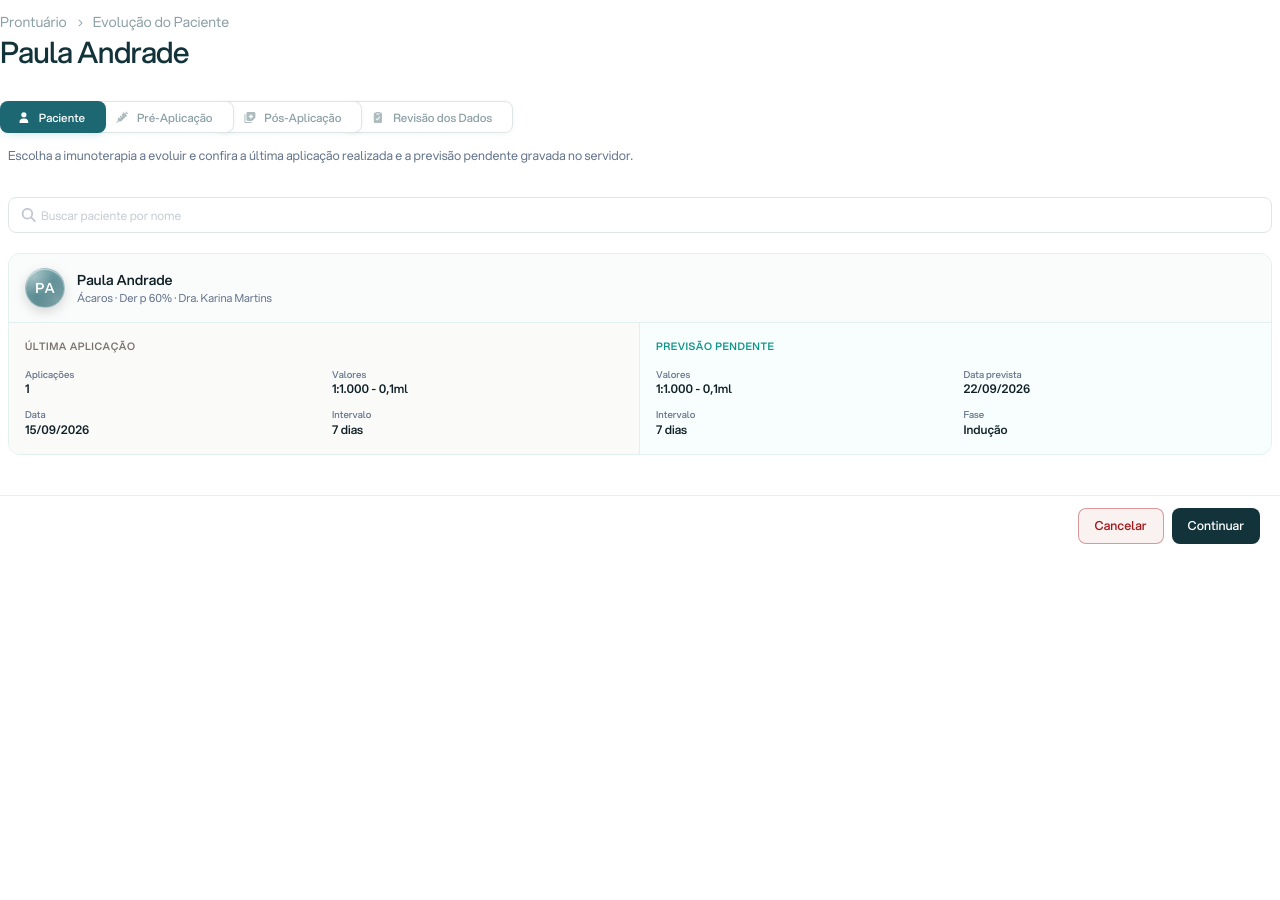
it: wizard de evolução sobre o contrato de doses › revisão desatualizada recarrega a dose e mantém o formulário, sem sucesso local
This screenshot has width=1280, height=900.
Expected: the text "Previsão pendente" is shown, [656,339,774,353]
Click the button "Continuar" at (1216, 526), box [1172,508,1260,544]
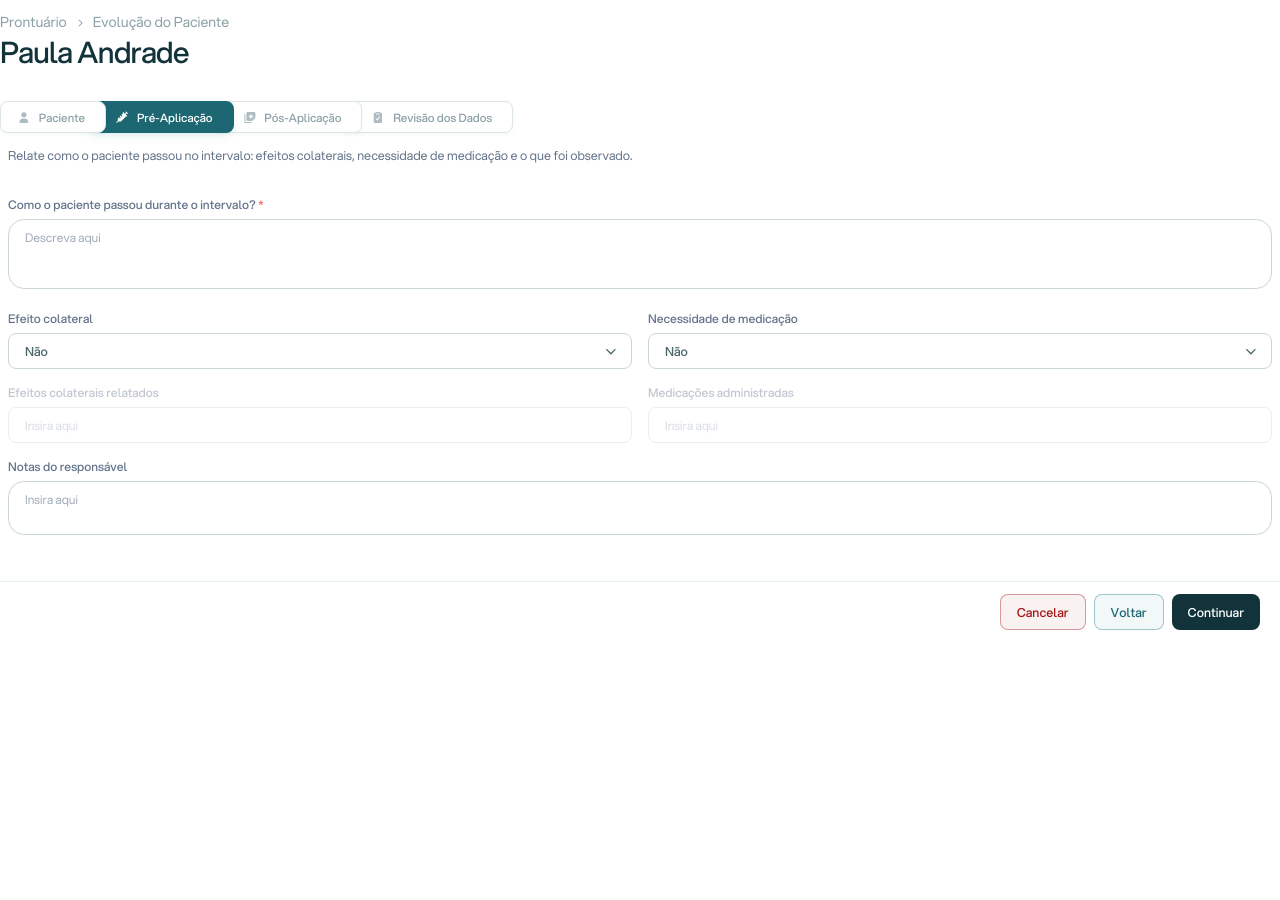
Type "Sem intercorrências no intervalo." into the text box with placeholder "Descreva aqui" at (640, 254), box [8,219,1272,289]
Click the button "Continuar" at (1216, 612), box [1172,594,1260,630]
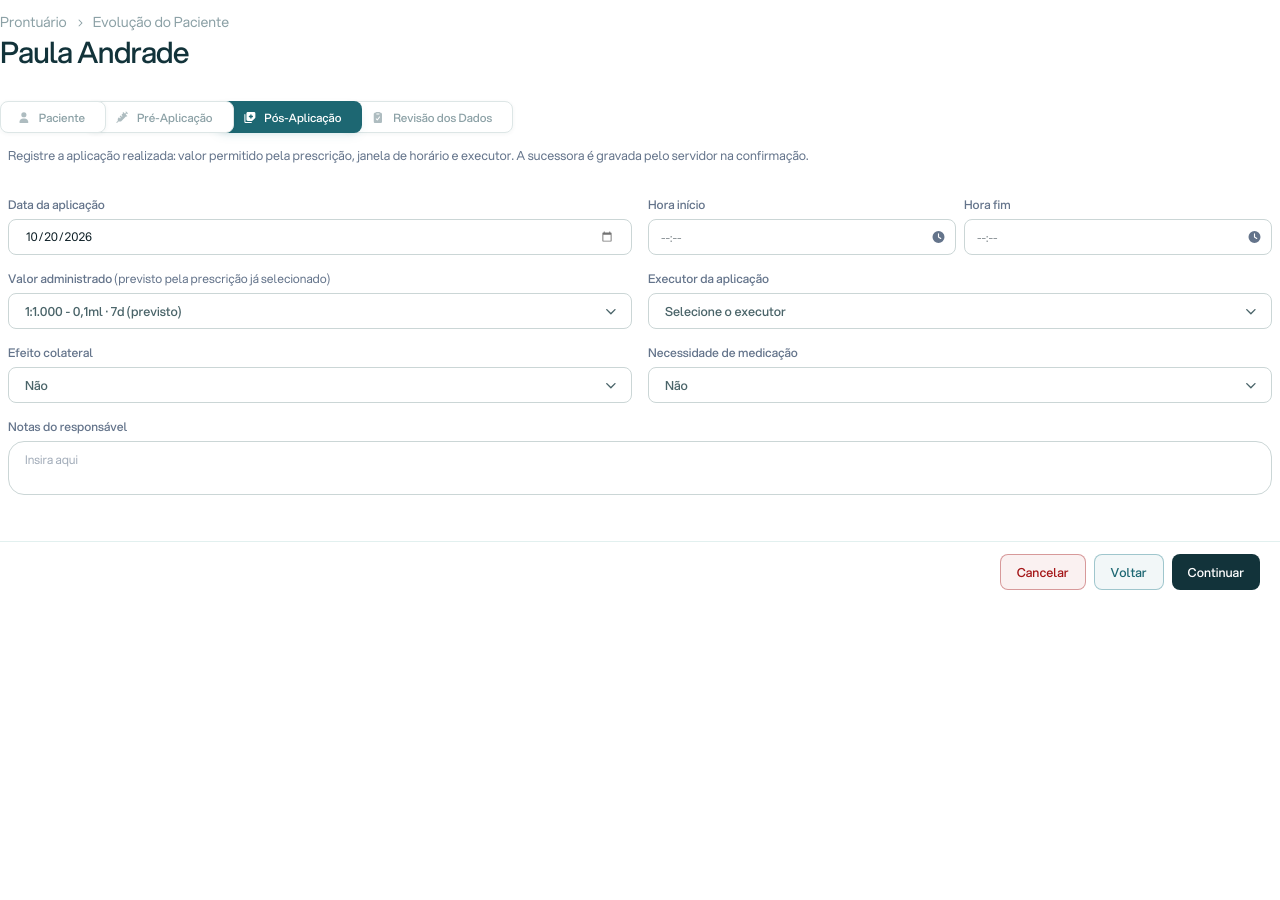
Now the dropdown below "Valor administrado" shows "1:1.000 - 0,1ml · 7d (previsto)", box [8,293,632,329]
Type "10:00" into the field with placeholder "--:--" below "Hora início" at (802, 237), box [648,219,956,255]
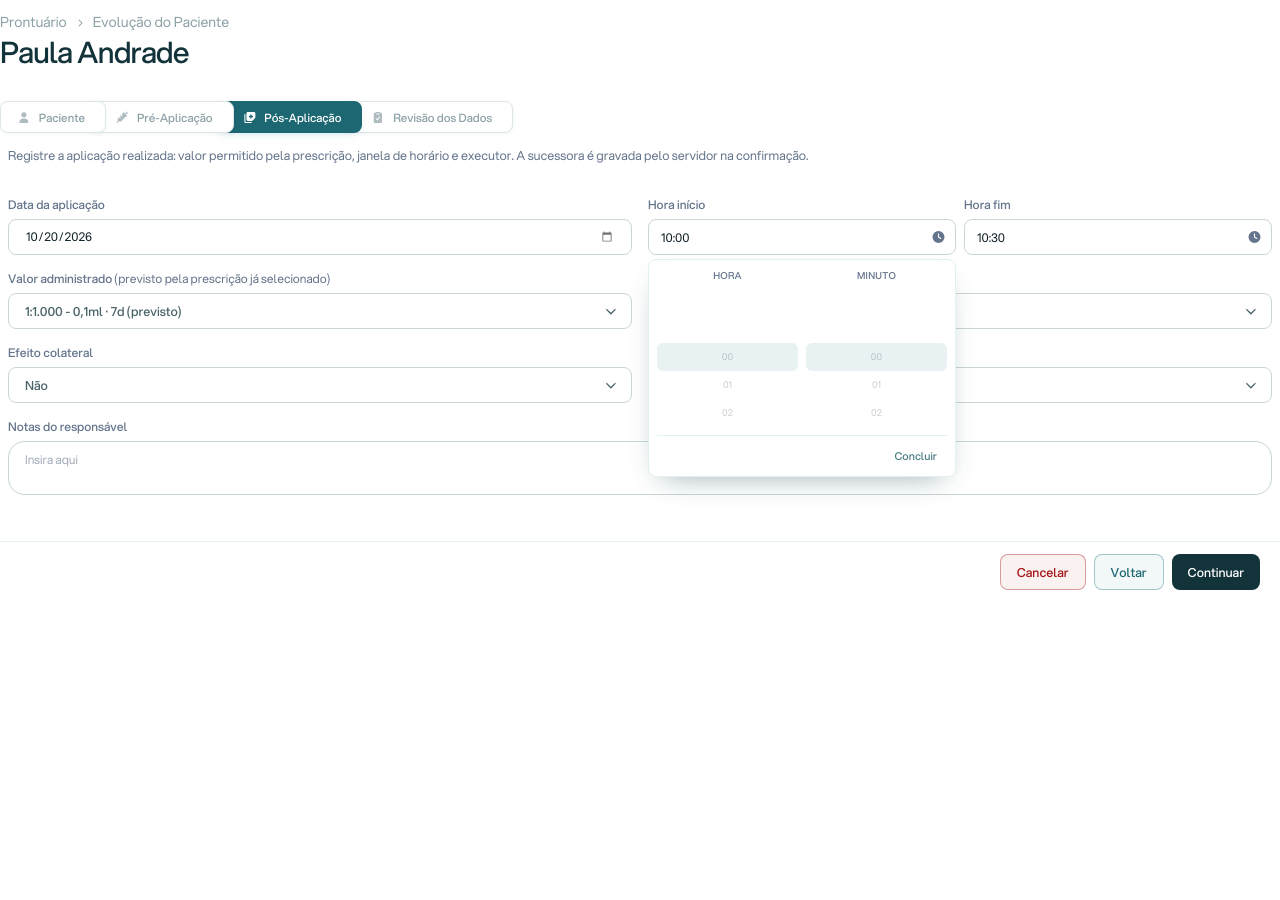
Select "Enf. Bruno Sales" in the dropdown below "Executor da aplicação" at (960, 311), box [648,293,1272,329]
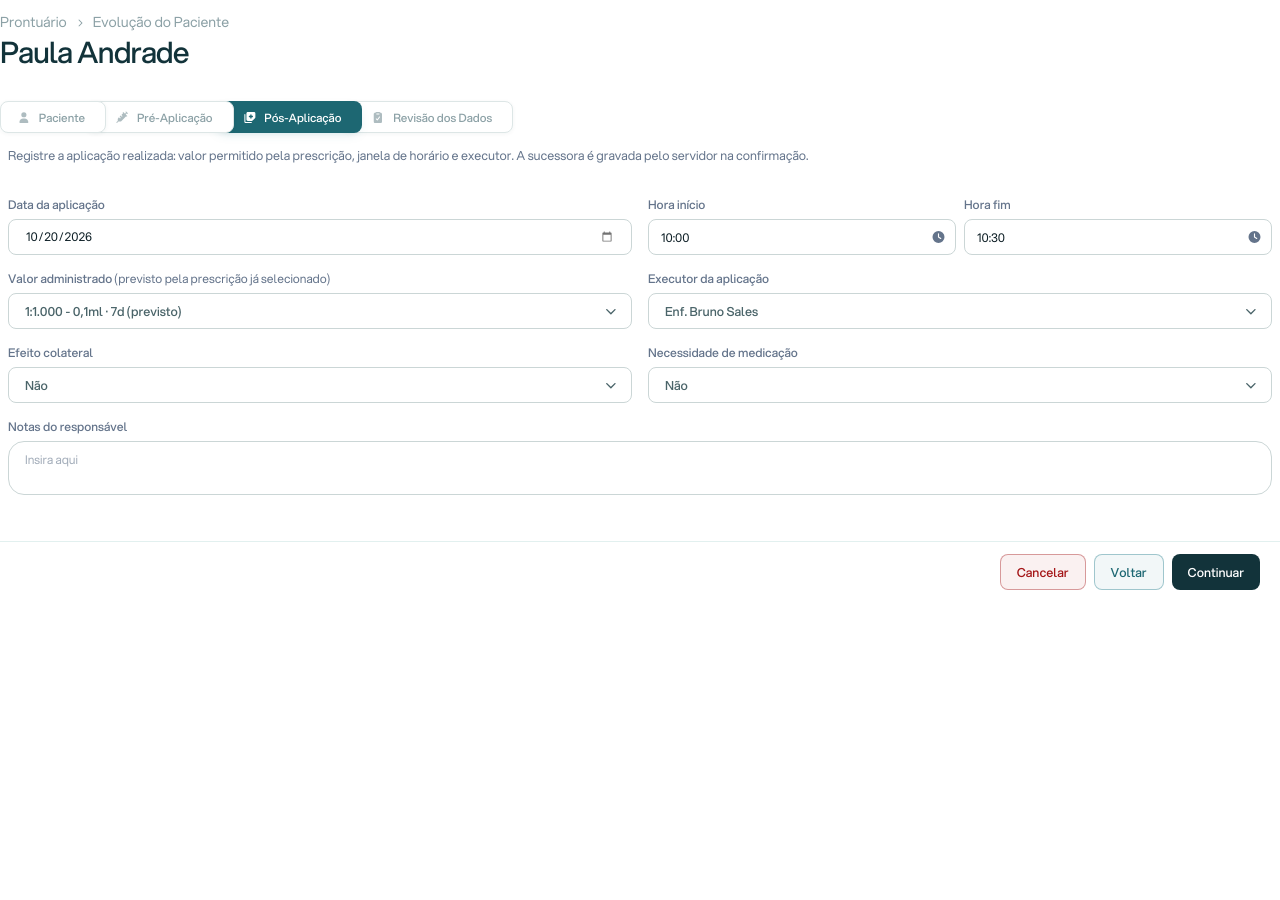
Click the button "Continuar" at (1216, 572), box [1172,554,1260,590]
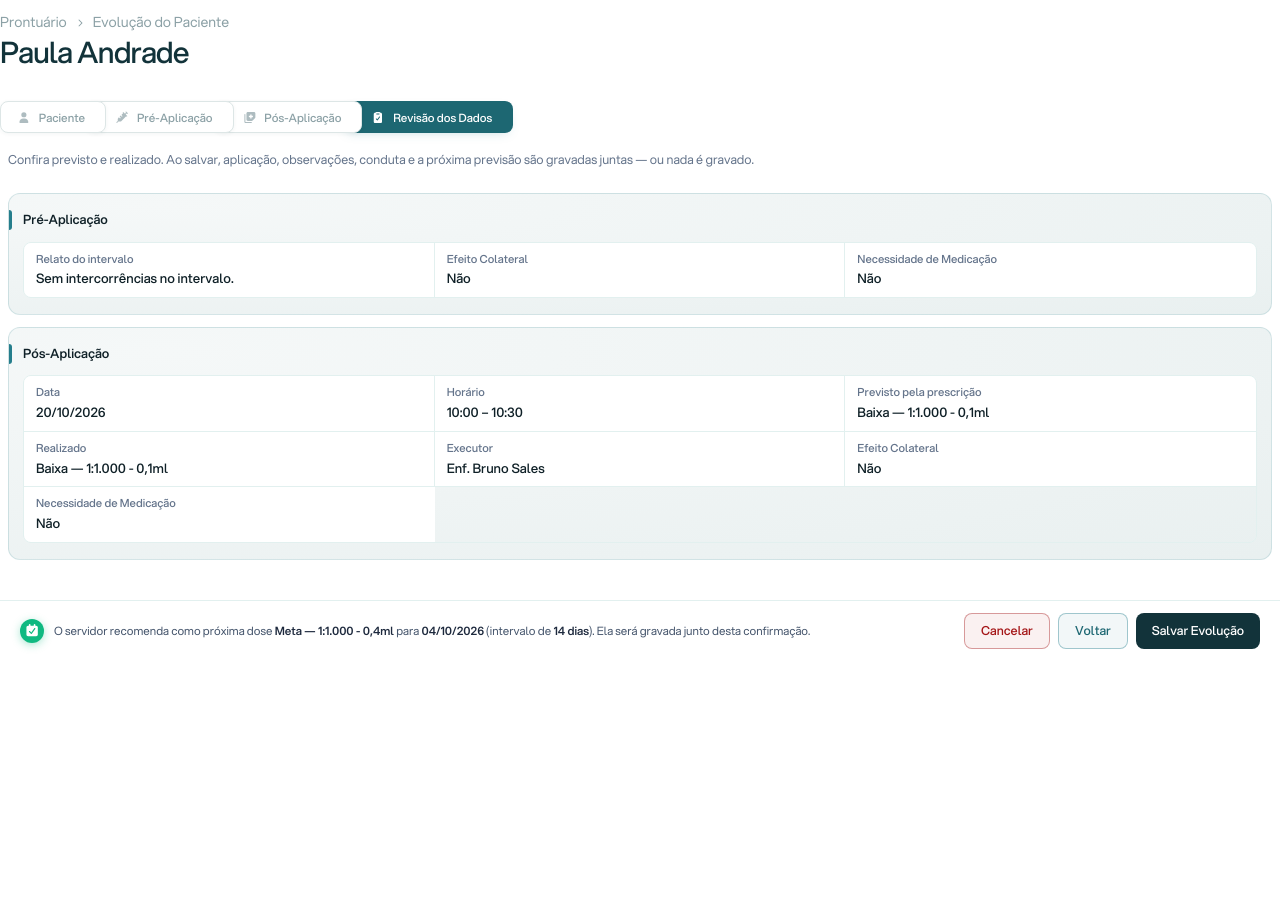
Now the text "O servidor recomenda como próxima dose" is shown, box [54,622,272,639]
Click the button "Salvar Evolução" at (1198, 631), box [1136,613,1260,649]
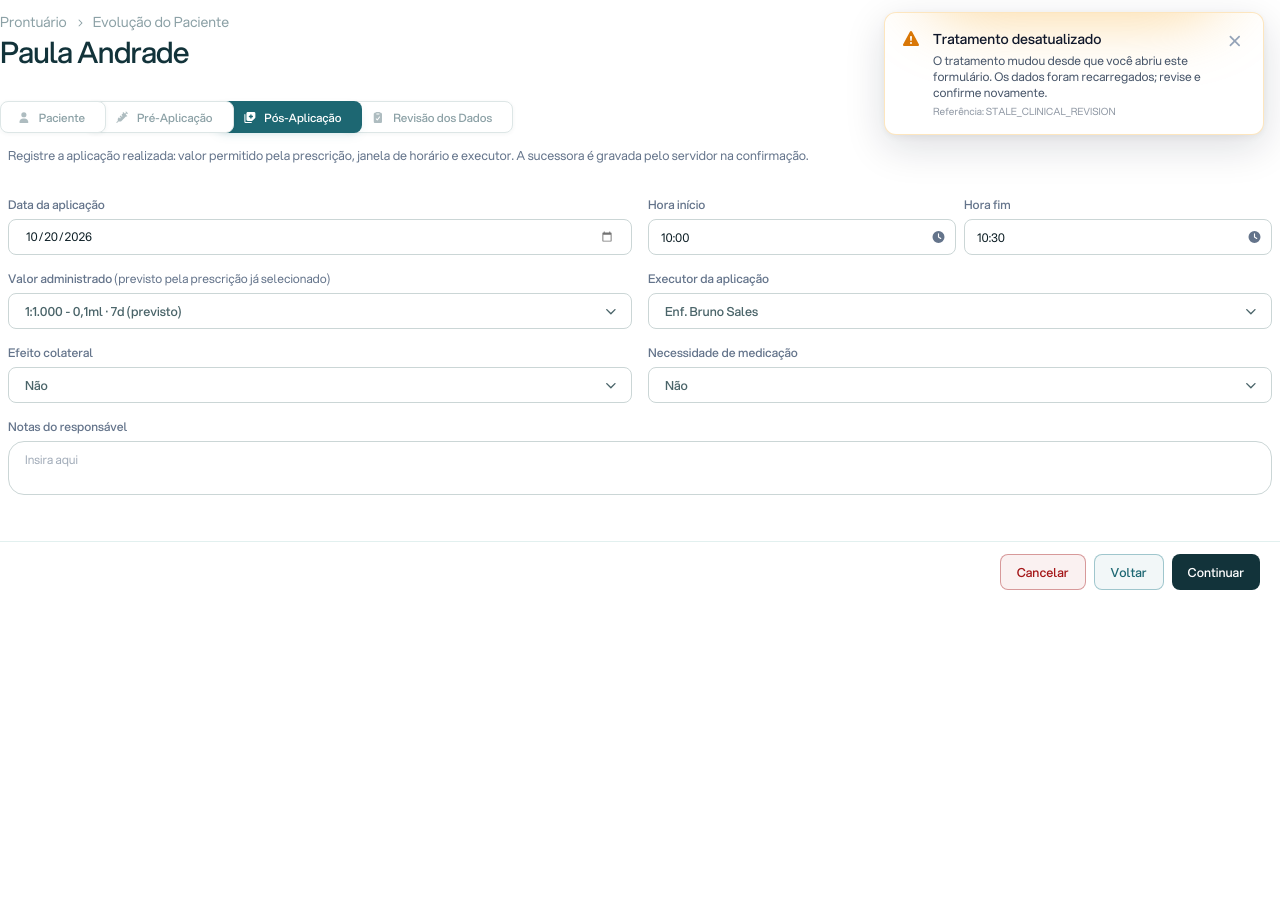
Now the message shows "mudou desde que você abriu", box [933,52,1201,101]
